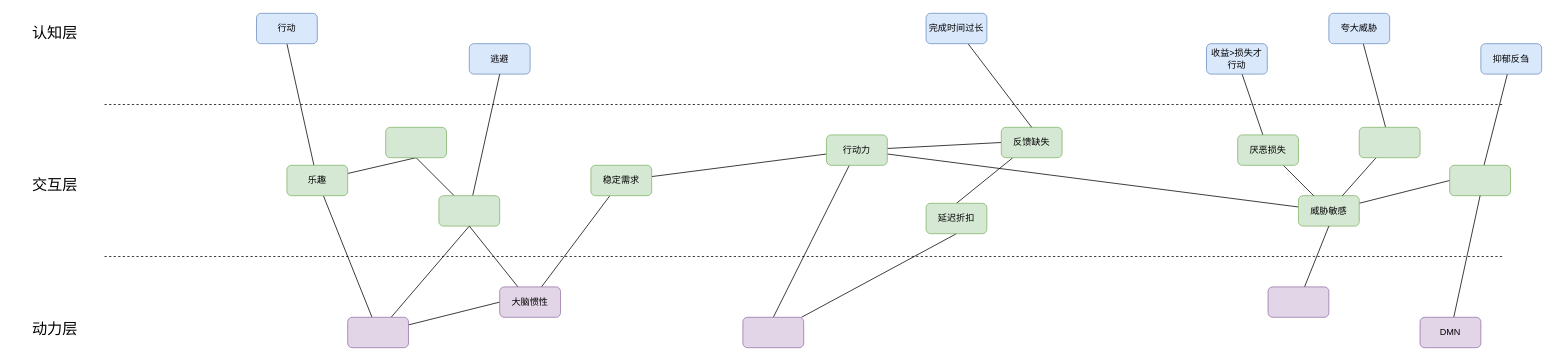
Some shapes in this 1555 by 361 pixel diagram are drawn without their labels. Each missing label, with the centre of its shape:
"动力-阻力模型" belongs at point (415, 142).
"多巴胺" belongs at point (773, 332).
"本能" belongs at point (377, 332).
"杏仁核" belongs at point (1298, 301).
"灾难化想象" belongs at point (1389, 142).
"痛苦" belongs at point (469, 210).
"精神内耗" belongs at point (1479, 180).
